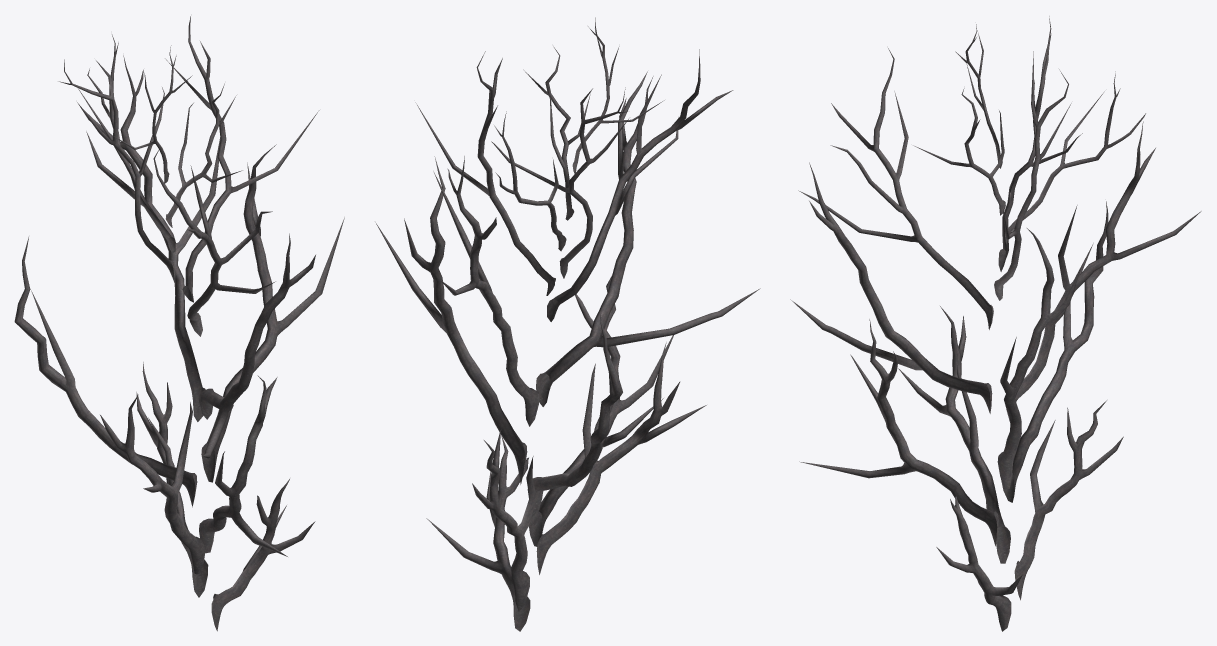
The picture shows the model from 3 angles, left to right: view 1: azimuth 30°, elevation 25°; view 2: azimuth 150°, elevation 25°; view 3: azimuth 270°, elevation 25°; orthographic projection. The views are drawn at different scales.
Visible parts, largest first — view 1: SM_FH_Ash_Tree_Bare_Canopy_01_LOD0; view 2: SM_FH_Ash_Tree_Bare_Canopy_01_LOD0; view 3: SM_FH_Ash_Tree_Bare_Canopy_01_LOD0.
Part boxes in pixels (left/top/right/bottom): SM_FH_Ash_Tree_Bare_Canopy_01_LOD0: left=14, top=16, right=344, bottom=631; SM_FH_Ash_Tree_Bare_Canopy_01_LOD0: left=375, top=17, right=760, bottom=631; SM_FH_Ash_Tree_Bare_Canopy_01_LOD0: left=790, top=16, right=1201, bottom=631.
Size of the model in its own units: 6.22 by 12.66 by 8.12.
Materials: 1 (1 with a texture image).
